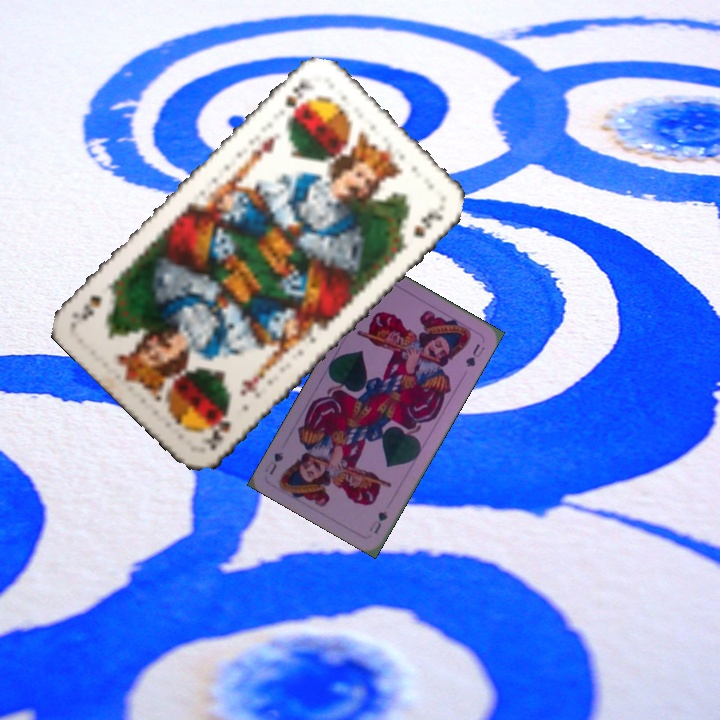GU: (365, 507, 390, 536)
SK: (199, 407, 234, 454), (280, 78, 315, 123)
